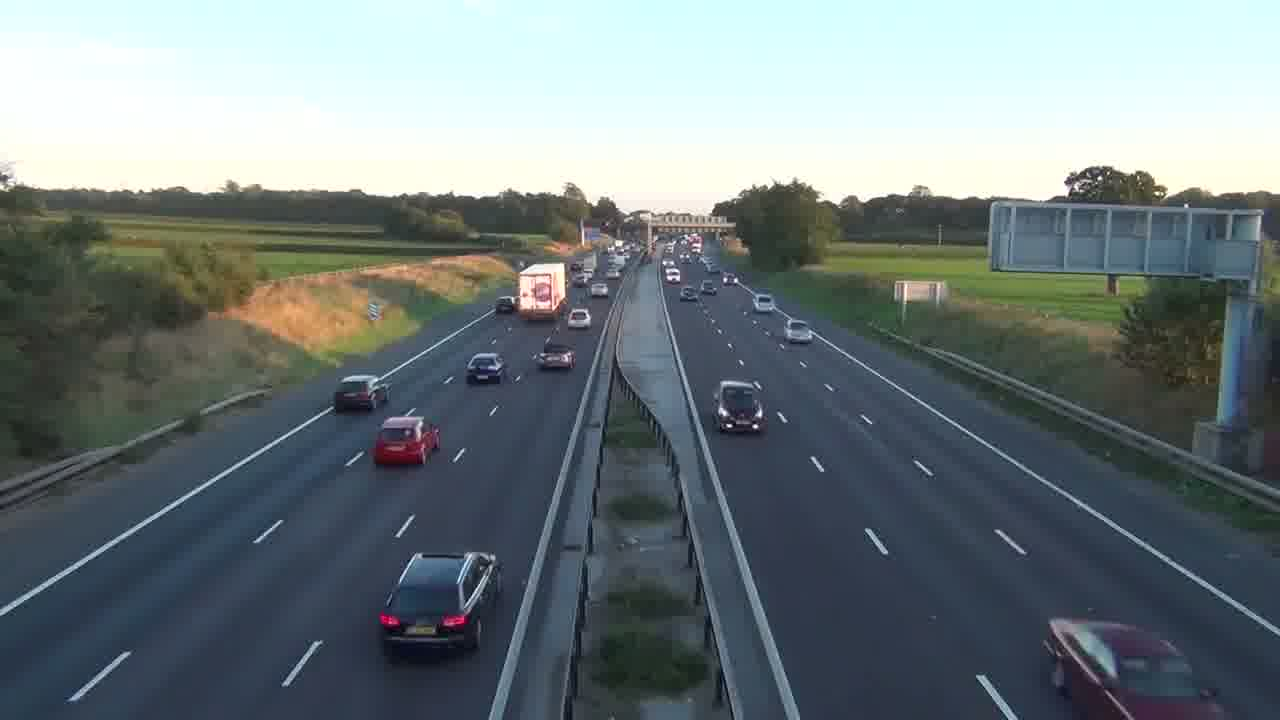car: (1041, 617, 1229, 719), (377, 550, 501, 656), (372, 413, 441, 467), (715, 379, 767, 434), (333, 374, 382, 413), (535, 336, 577, 371), (466, 352, 504, 384), (567, 307, 592, 329)
truck: (1041, 617, 1229, 719), (516, 262, 568, 321)
